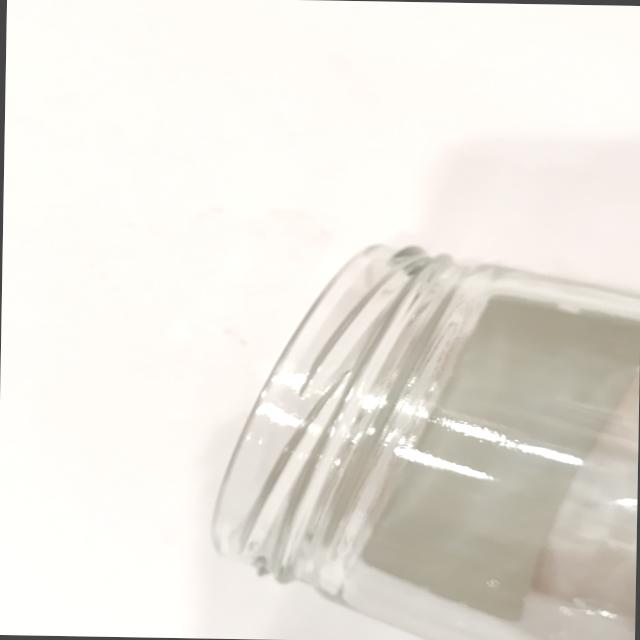Glass: (200, 231, 640, 640)
